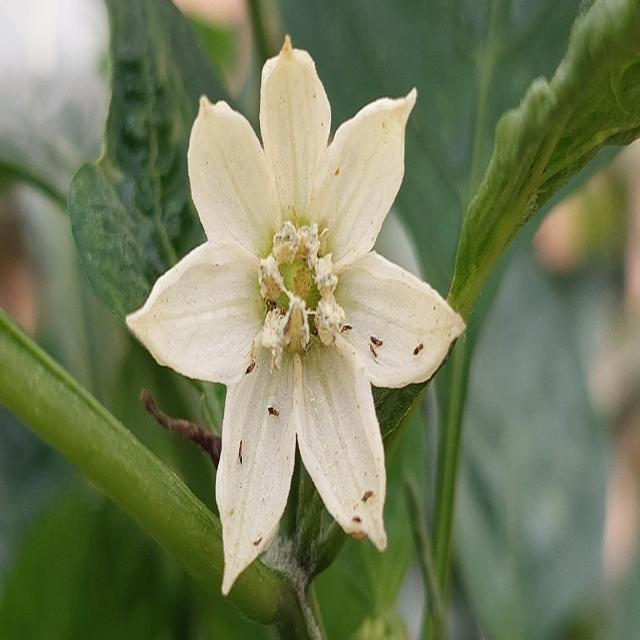Thrip-Adult-: (368, 329, 386, 349), (243, 356, 258, 380), (235, 433, 246, 462), (338, 322, 356, 338), (361, 482, 374, 504), (412, 336, 425, 357), (248, 533, 264, 549), (266, 402, 281, 418), (367, 343, 379, 362), (350, 513, 362, 526)
